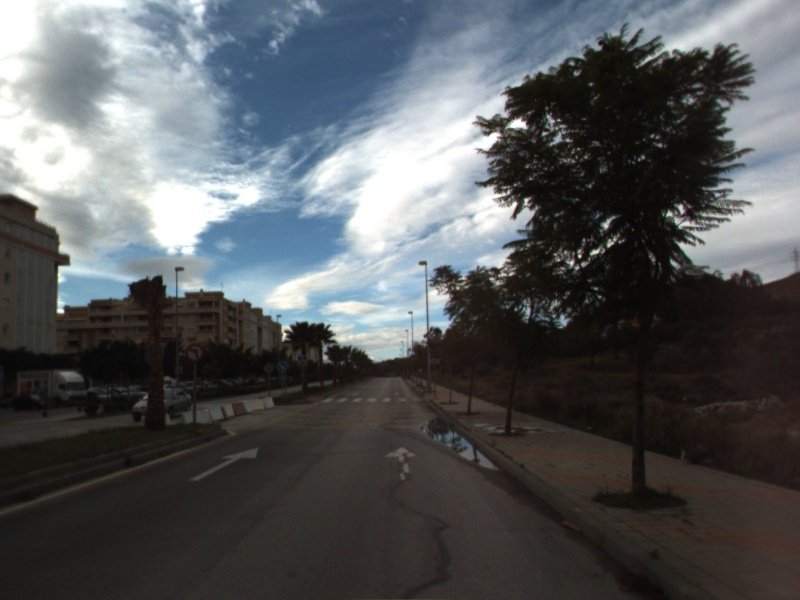STRAIGHT: (186, 445, 261, 483), (383, 444, 422, 483)
